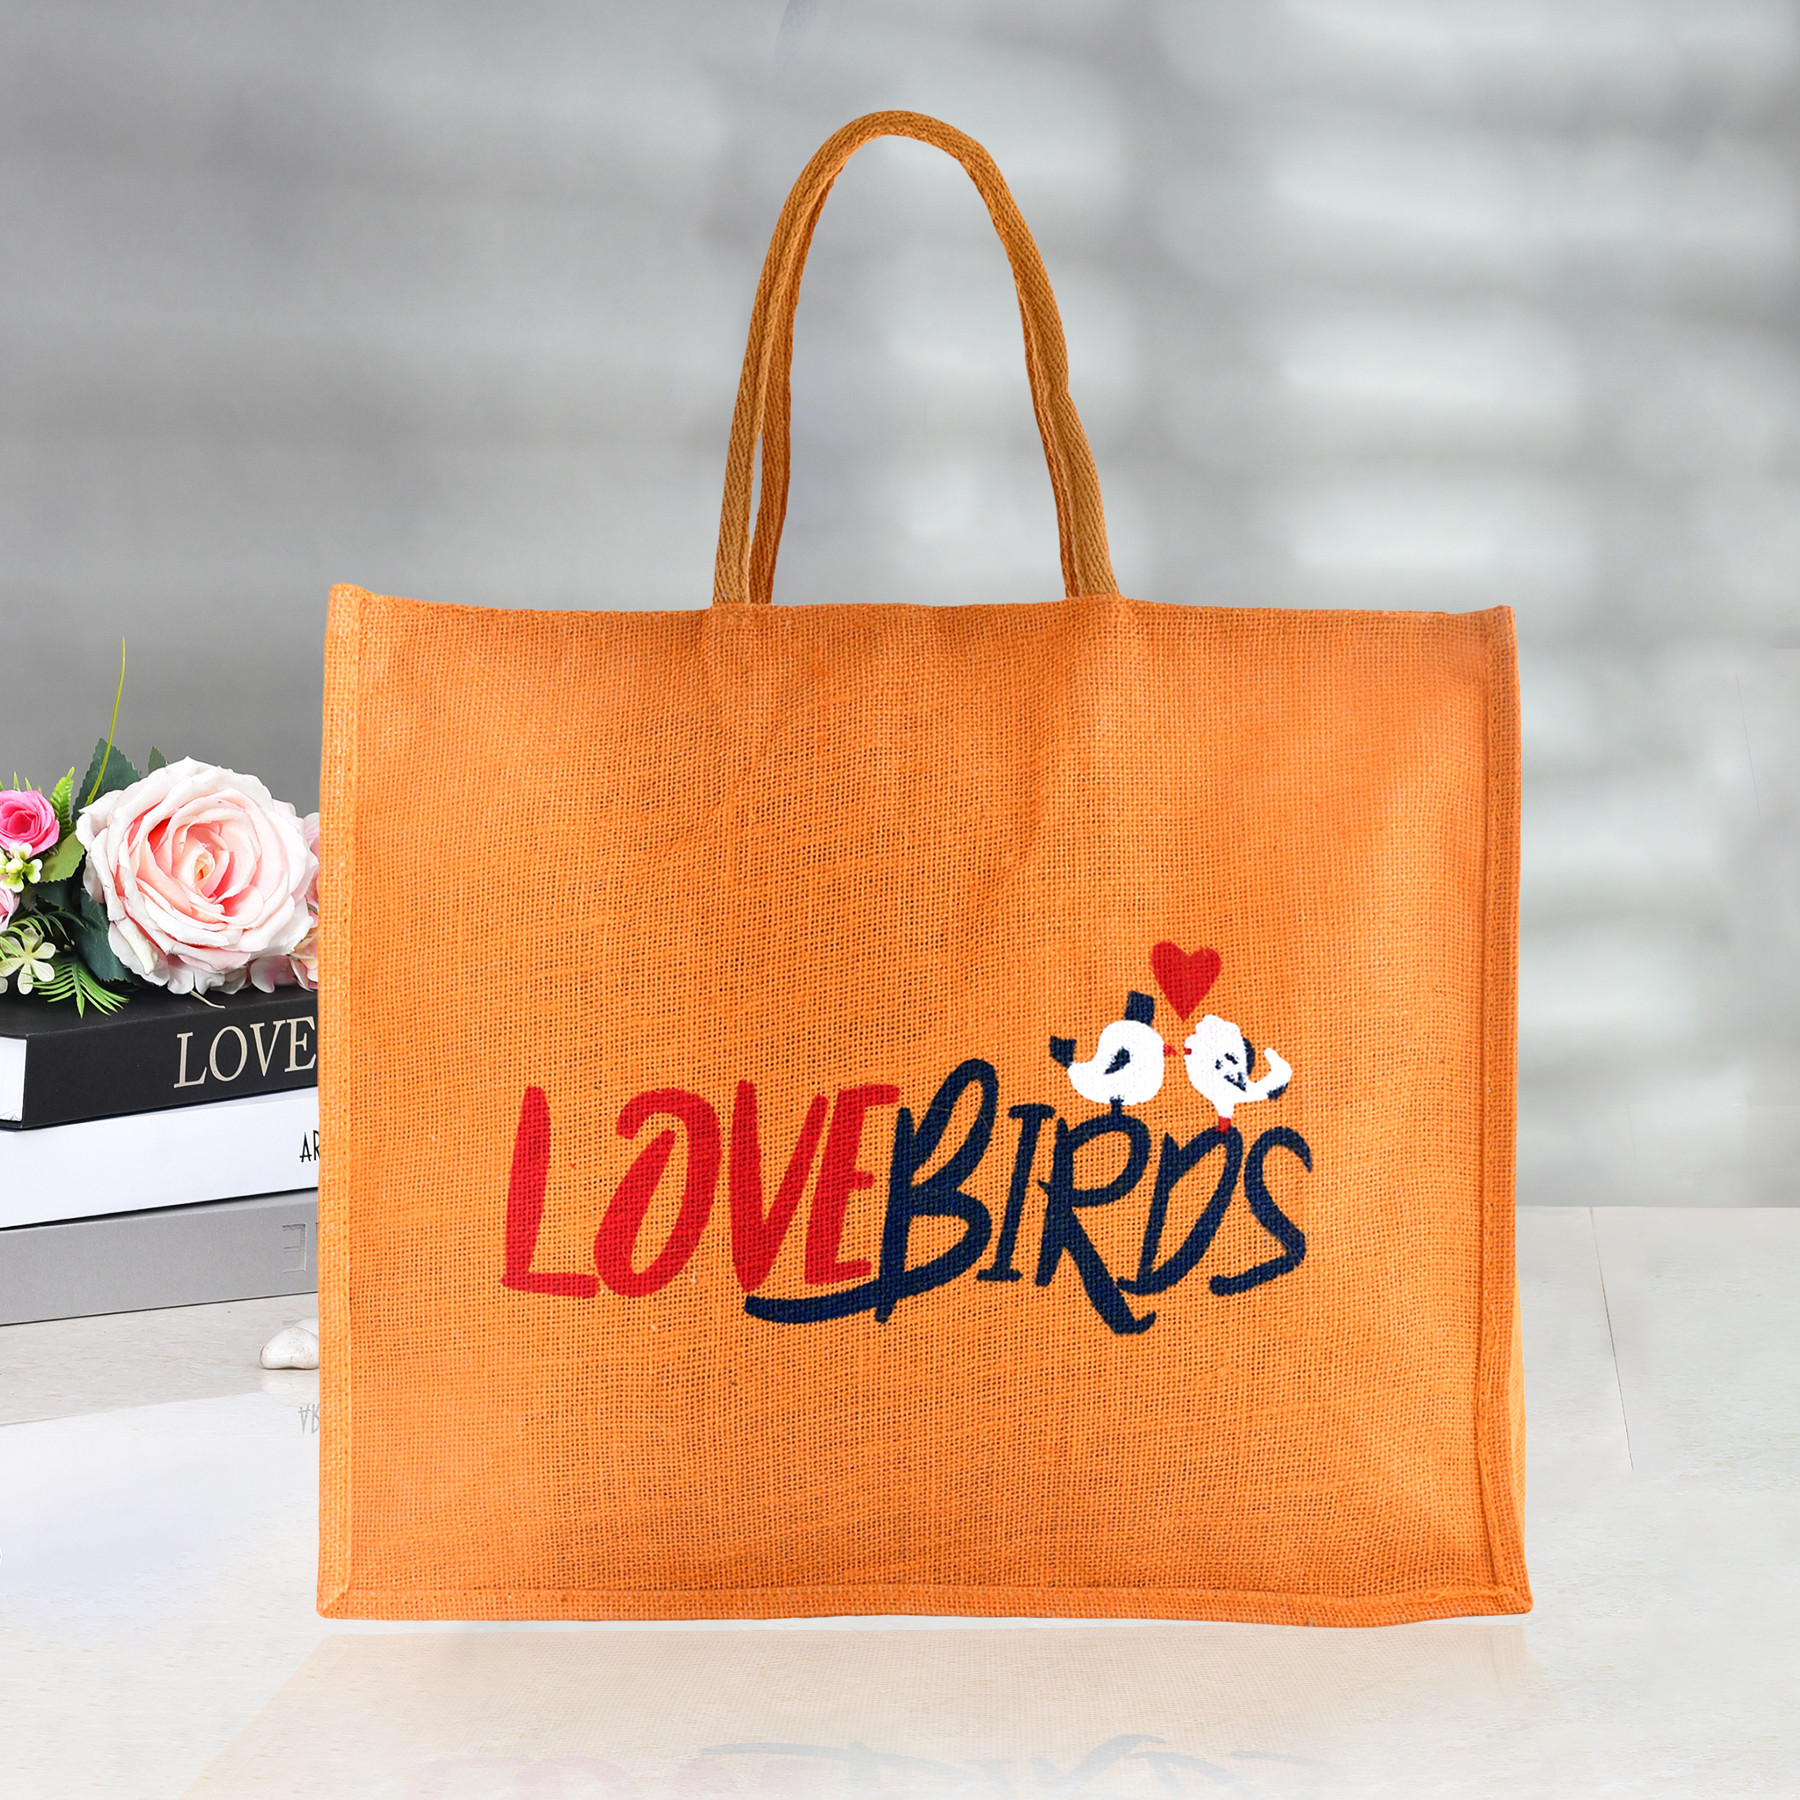carrybag: (246, 142, 1582, 1681)
